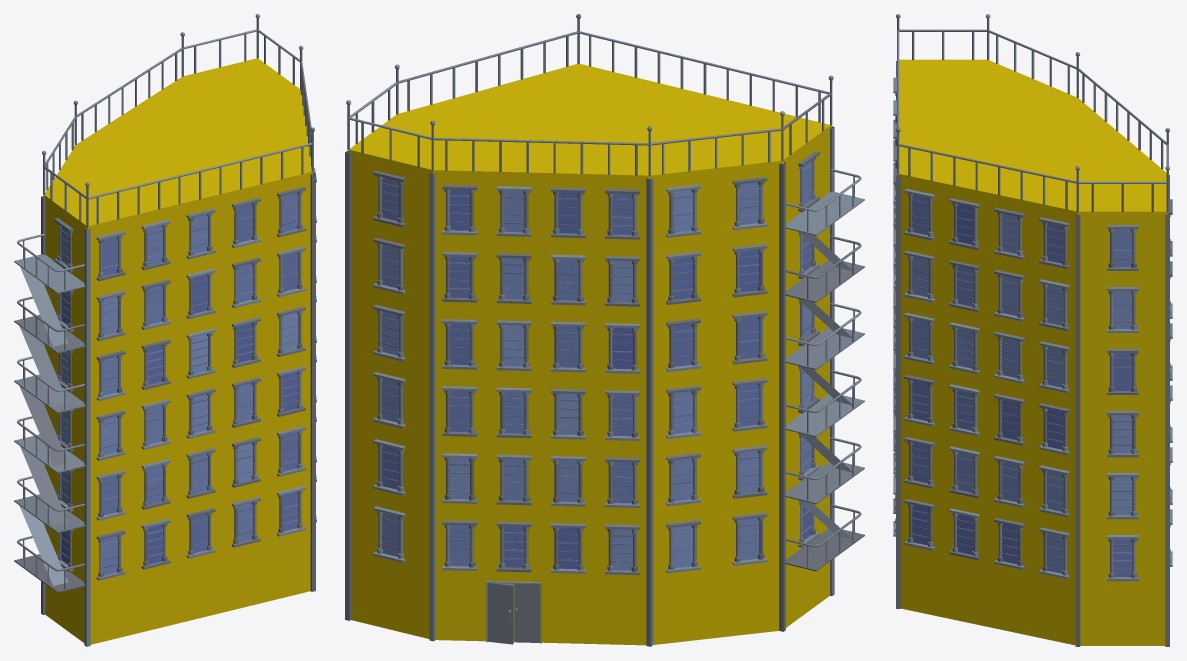
The model's file is Building Procedural.015.fbx.
3 renders of one model, left to right at view 1: azimuth 30°, elevation 25°; view 2: azimuth 150°, elevation 25°; view 3: azimuth 270°, elevation 25°, orthographic. The views are drawn at different scales.
Parts seen in each view (by area): view 1: Building Procedural.015; view 2: Building Procedural.015; view 3: Building Procedural.015.
Part boxes in pixels (box(x1,y1,x2,y2)): Building Procedural.015: box(14, 14, 316, 646); Building Procedural.015: box(345, 14, 864, 646); Building Procedural.015: box(893, 14, 1172, 646).
Size of the model in its own units: 1671 by 2210 by 1165.
